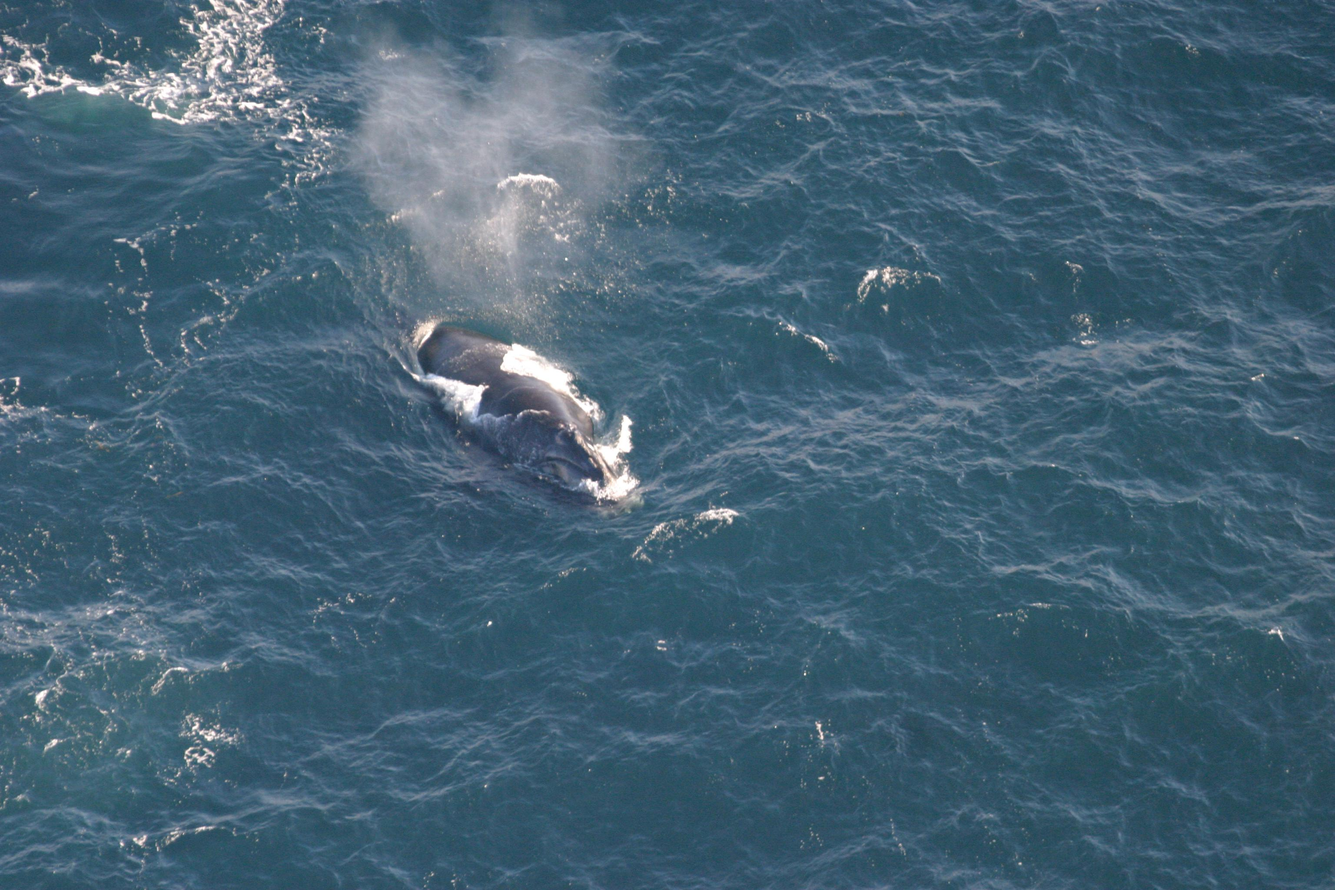whale: (378, 296, 650, 525)
